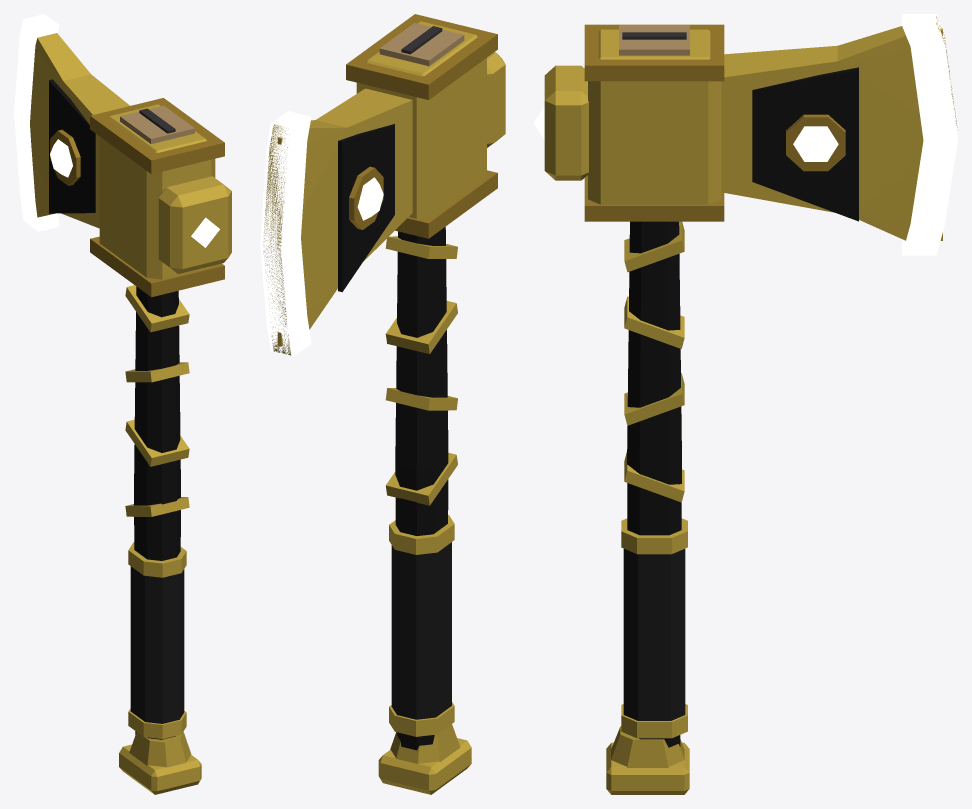
File: LuxAxe.glb
3 renders of one model, left to right at view 1: azimuth 30°, elevation 25°; view 2: azimuth 150°, elevation 25°; view 3: azimuth 270°, elevation 25°, orthographic. The views are drawn at different scales.
Visible parts, largest first — view 1: Head, Handle, Glow; view 2: Head, Handle, Glow; view 3: Head, Handle, Glow.
Part boxes in pixels (bbox=[...]): Head: bbox=[30, 33, 231, 297]; Handle: bbox=[119, 105, 201, 794]; Glow: bbox=[14, 14, 219, 247]; Head: bbox=[263, 14, 505, 355]; Handle: bbox=[378, 23, 471, 794]; Glow: bbox=[260, 111, 383, 356]; Head: bbox=[544, 16, 957, 240]; Handle: bbox=[606, 25, 689, 794]; Glow: bbox=[534, 14, 957, 255].
Bounding box in the file's own units: 0.477 × 4.15 × 2.09.
